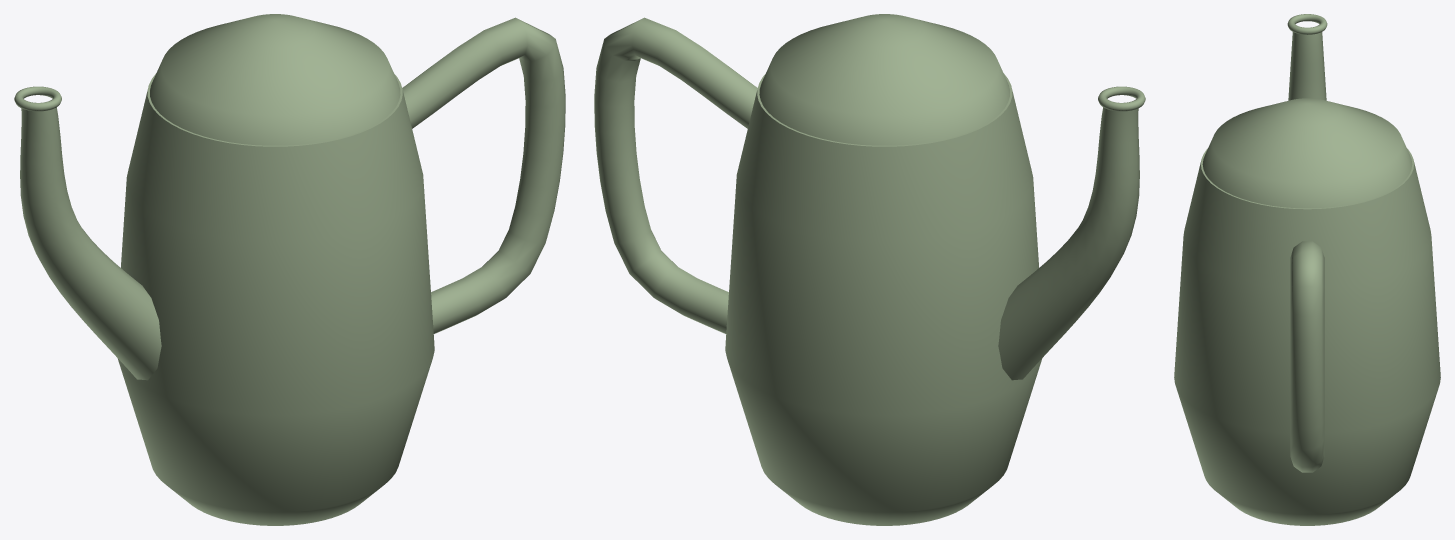
File: ewer.glb
The picture shows the model from 3 angles, left to right: view 1: azimuth 30°, elevation 25°; view 2: azimuth 150°, elevation 25°; view 3: azimuth 270°, elevation 25°; orthographic projection. The views are drawn at different scales.
Visible parts, largest first — view 1: brass-ewer; view 2: brass-ewer; view 3: brass-ewer.
Part boxes in pixels (<box>): brass-ewer: <box>14,14,565,525</box>; brass-ewer: <box>594,14,1145,525</box>; brass-ewer: <box>1174,14,1440,525</box>.
Size of the model in its own units: 0.552 by 0.45 by 0.28.
